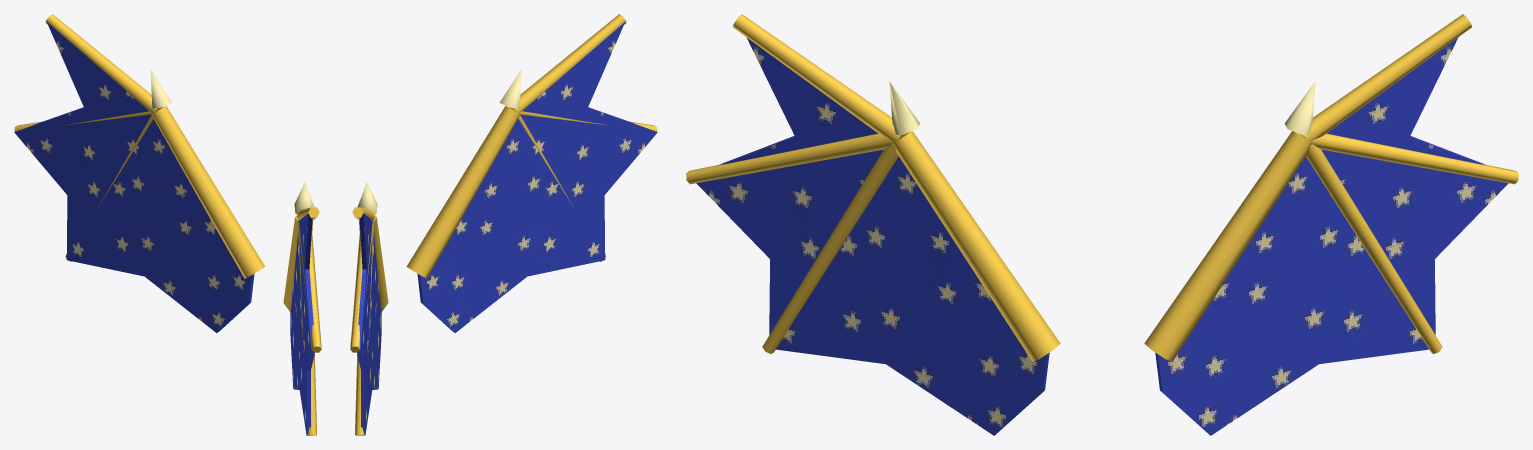
The model's file is back_aurora_wings.glb.
3 renders of one model, left to right at view 1: azimuth 30°, elevation 25°; view 2: azimuth 150°, elevation 25°; view 3: azimuth 270°, elevation 25°, orthographic. The views are drawn at different scales.
Parts seen in each view (by area): view 1: Wing_L, Wing_R; view 2: Wing_R, Wing_L; view 3: Wing_L, Wing_R.
Boxes of the visible parts, x1,y1,x2,y2 form: Wing_L: (14,14,265,332); Wing_R: (283,182,321,435); Wing_R: (406,14,657,332); Wing_L: (350,182,388,435); Wing_L: (1144,14,1518,435); Wing_R: (686,14,1060,435).
Bounding box in the file's own units: 0.38 × 0.7953 × 1.63.
3 materials, 2 textured.
